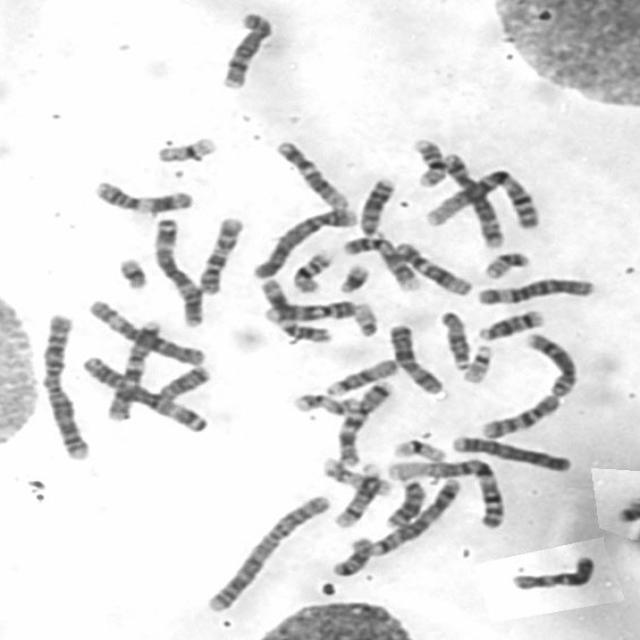A1: (382, 454, 508, 530), (421, 166, 541, 230)
A2: (201, 492, 331, 614), (35, 310, 92, 461)
A3: (78, 353, 210, 432), (149, 214, 205, 328)
B4: (248, 204, 359, 281), (448, 432, 573, 474)
B5: (369, 476, 462, 559), (439, 150, 506, 250)
C10: (475, 391, 564, 441), (194, 212, 246, 296)
C11: (256, 277, 332, 345), (90, 178, 194, 215)
C12: (271, 136, 350, 212), (390, 240, 472, 296)
C6: (85, 297, 208, 366), (472, 274, 596, 307)
C7: (102, 316, 164, 423), (333, 377, 396, 467)
C8: (217, 9, 277, 93), (522, 329, 580, 398)
C9: (339, 233, 421, 292), (260, 296, 358, 324)
D13: (355, 174, 398, 238), (381, 476, 427, 530)
D14: (330, 461, 385, 530), (474, 306, 545, 342)
D15: (324, 357, 399, 397), (436, 307, 472, 371)
E16: (288, 247, 335, 296), (407, 136, 447, 189)
E17: (317, 455, 393, 497), (291, 390, 358, 416)
E18: (152, 362, 212, 402), (328, 534, 374, 577)
F19: (152, 134, 219, 164), (389, 436, 447, 464)
F20: (481, 249, 533, 280), (613, 496, 640, 524)
G21: (113, 254, 151, 290), (335, 260, 370, 296)
G22: (458, 342, 496, 384), (349, 299, 382, 338)
X: (386, 322, 445, 395), (507, 552, 596, 592)
